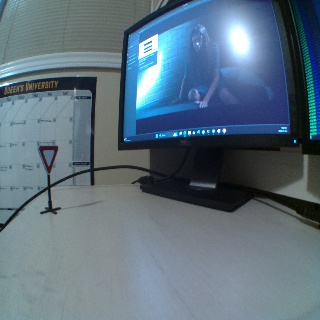sign_yield: (36, 147, 60, 172)
